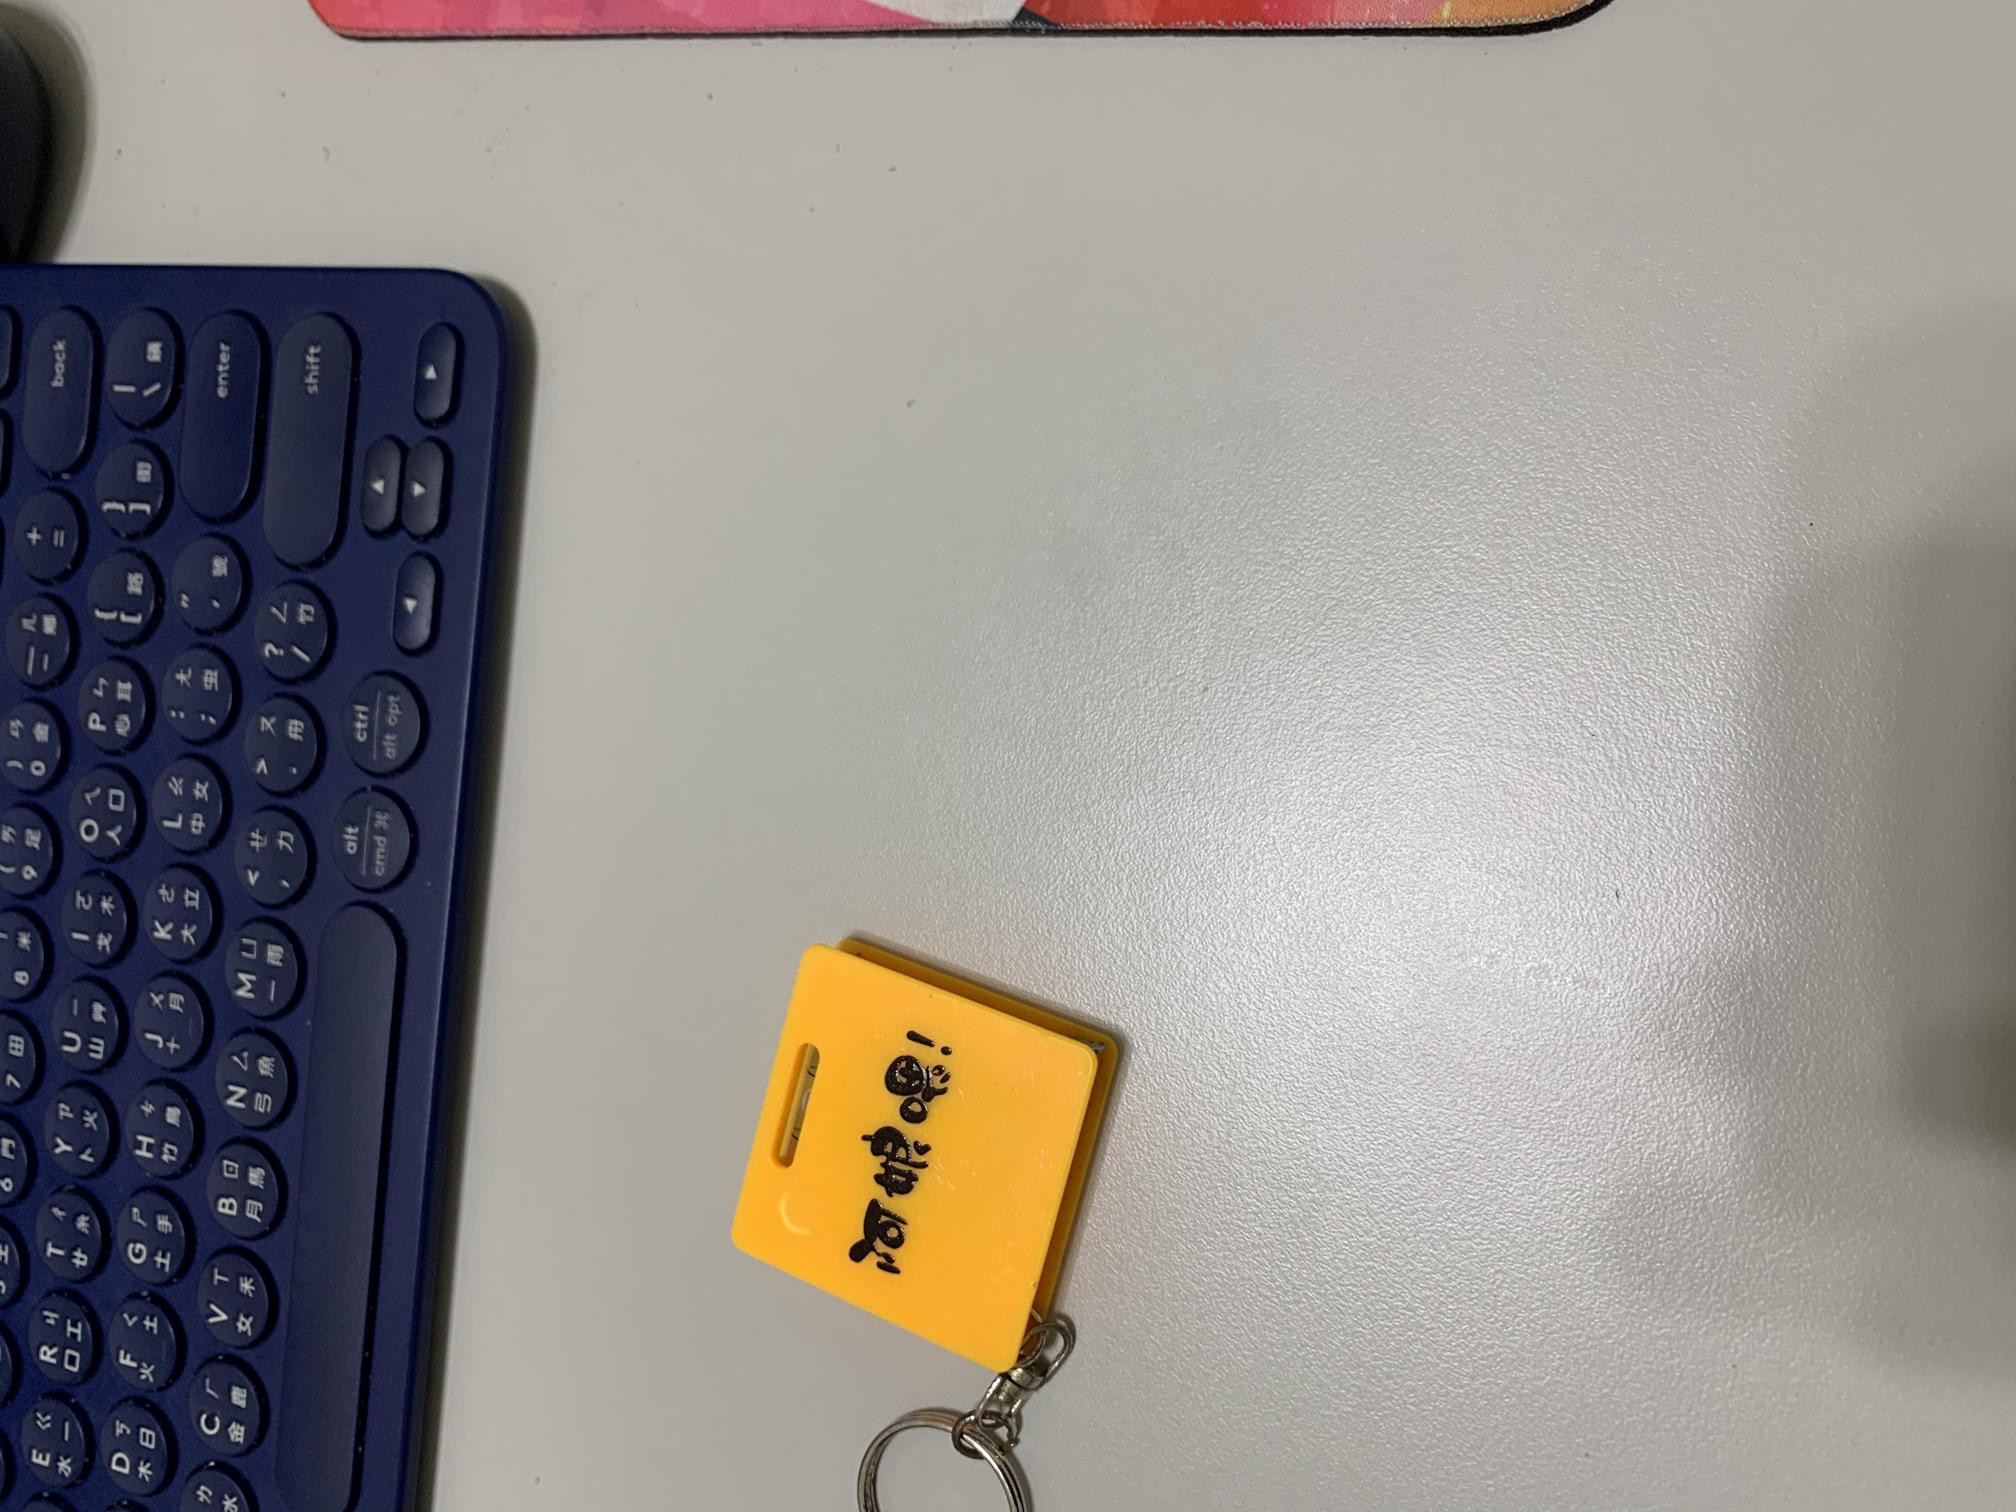Laio: (710, 931, 1124, 1378)
